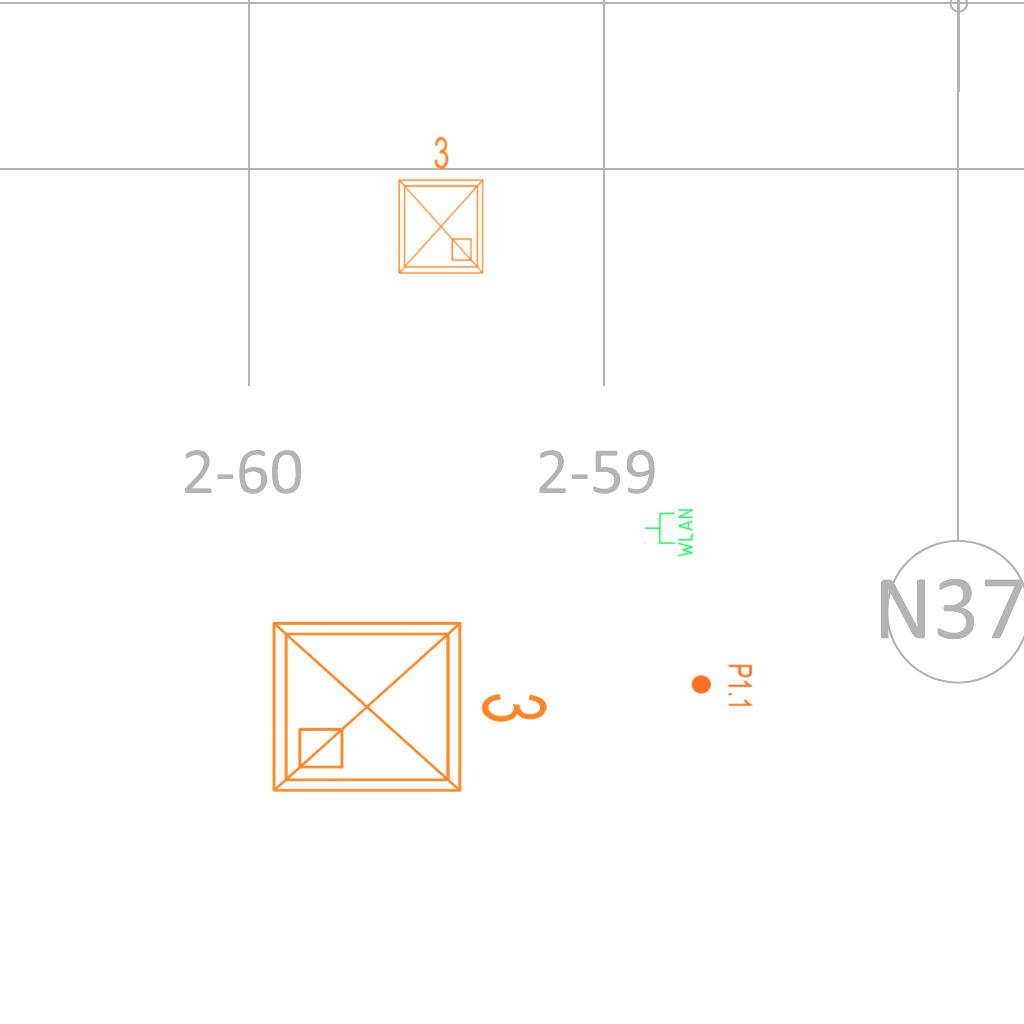Downlight_LED_Einbauleuchten_Flur: (690, 663, 754, 709)
Einbaudownlights_LED_Konferenzraeume: (258, 599, 558, 807), (387, 131, 491, 281)
WLAN: (643, 507, 695, 559)
